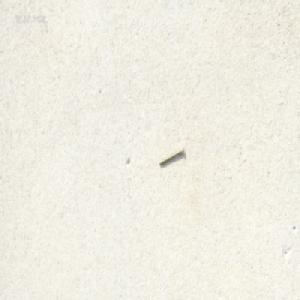Bolt: (158, 145, 184, 167)
